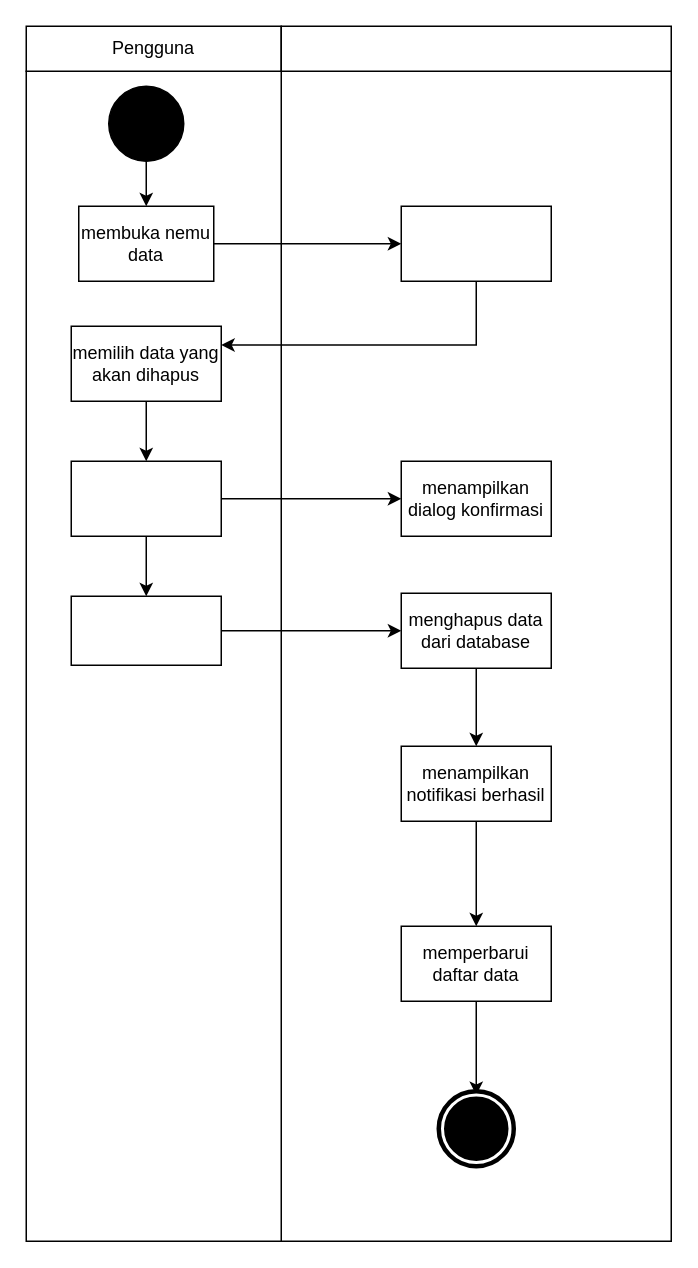
The diagram is 698 pixels wide and 1268 high, and some of its shapes have lost their labels. The box of each missing label's shape, as (x1, y1, x2, y2) in pixels:
menekan tombol hapus: (70, 460, 221, 536)
mengonfirmasi penghapusan: (70, 595, 221, 665)
nemampilkan daftar data: (400, 205, 551, 281)
Sistem: (280, 25, 671, 71)
